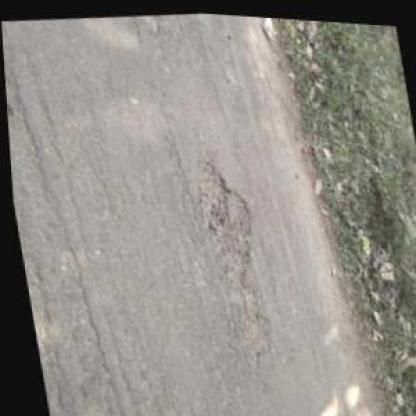pothole: (187, 146, 273, 362)
